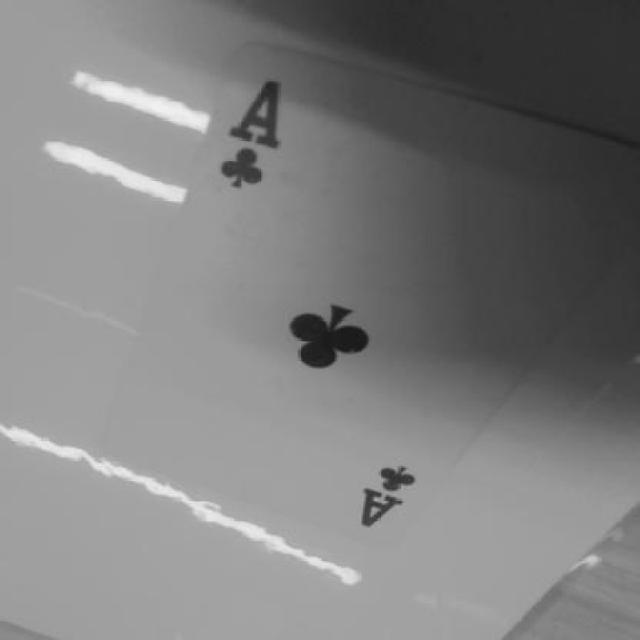AC: (210, 65, 307, 212), (341, 440, 464, 546)
